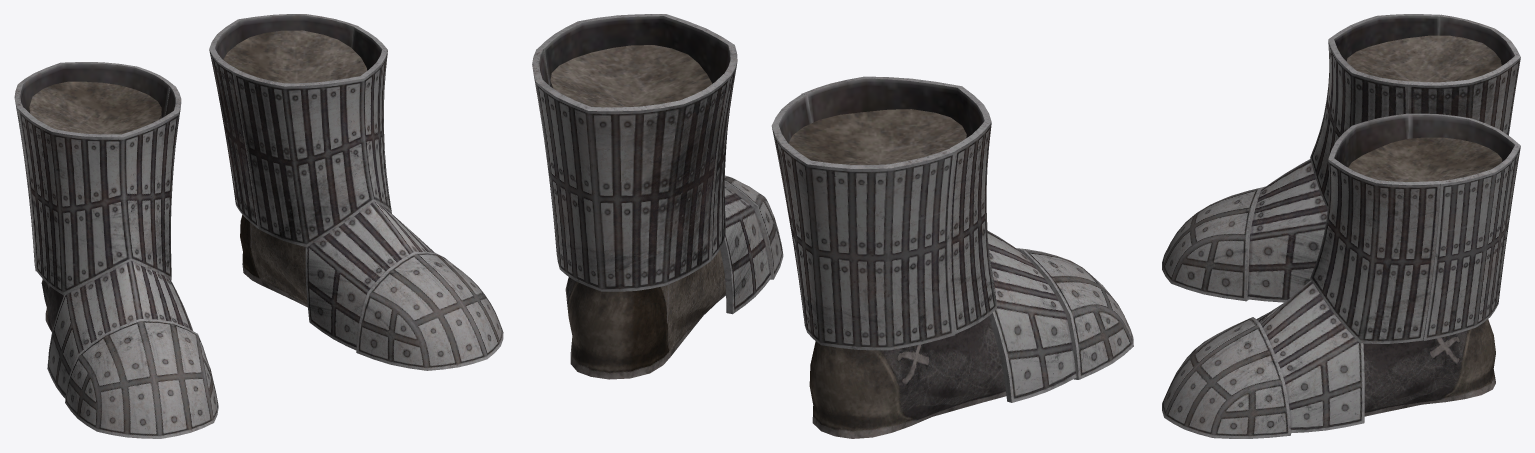
File: sk_dwarf_iron_boots_elite_b2.fbx
3 renders of one model, left to right at view 1: azimuth 30°, elevation 25°; view 2: azimuth 150°, elevation 25°; view 3: azimuth 270°, elevation 25°, orthographic. The views are drawn at different scales.
Parts seen in each view (by area): view 1: sk_dwarf_iron_boots_elite_b2; view 2: sk_dwarf_iron_boots_elite_b2; view 3: sk_dwarf_iron_boots_elite_b2.
Part boxes in pixels (x1=…): sk_dwarf_iron_boots_elite_b2: x1=14, y1=14, x2=503, y2=438; sk_dwarf_iron_boots_elite_b2: x1=532, y1=14, x2=1133, y2=438; sk_dwarf_iron_boots_elite_b2: x1=1162, y1=14, x2=1520, y2=438.
Bounding box in the file's own units: 0.5738 × 0.4274 × 0.3159.
1 material, 1 textured.
